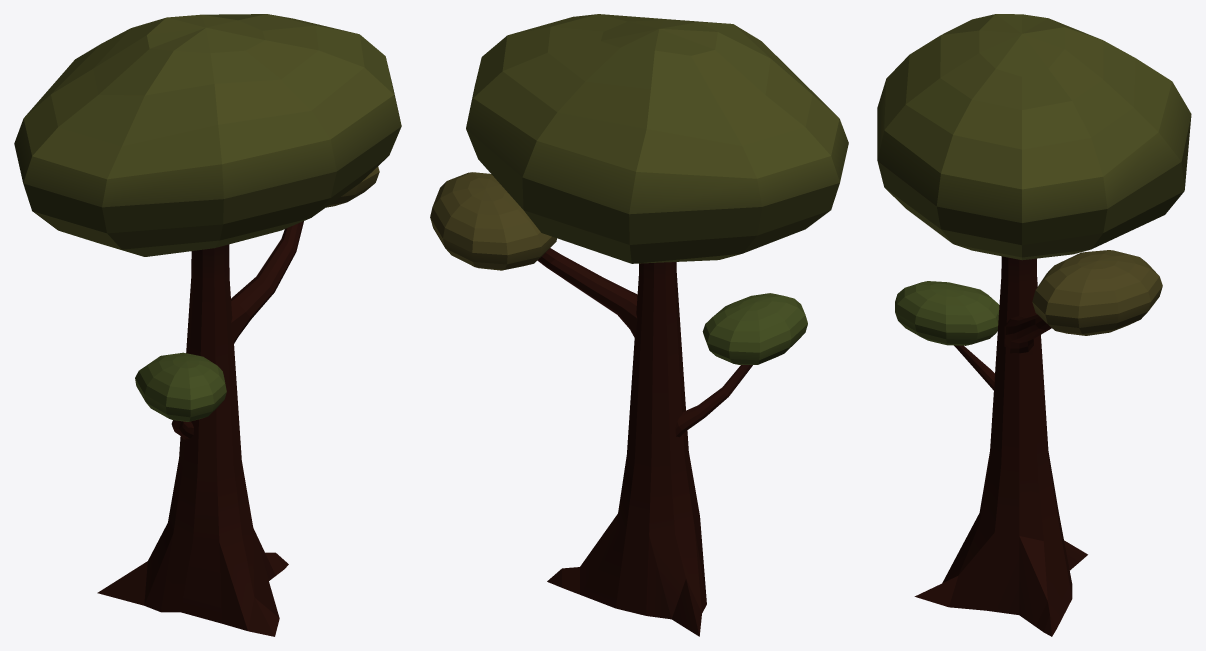
Rendered from tree01.fbx.
3 views of the same model, side by side, from view 1: azimuth 30°, elevation 25°; view 2: azimuth 150°, elevation 25°; view 3: azimuth 270°, elevation 25° (orthographic). The views are drawn at different scales.
Visible parts, largest first — view 1: polySurface2; view 2: polySurface2; view 3: polySurface2.
Part boxes in pixels (x1,y1,x2,y2): polySurface2: [14, 14, 401, 636]; polySurface2: [430, 14, 848, 636]; polySurface2: [877, 14, 1191, 636].
Bounding box in the file's own units: 6.87 × 9.93 × 5.08.
